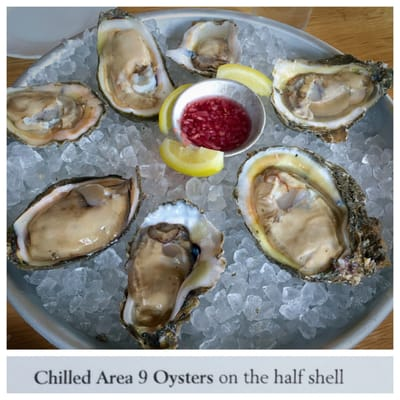pasta: (217, 62, 273, 98)
sushi: (158, 78, 267, 176), (269, 55, 391, 142), (170, 79, 265, 157)
